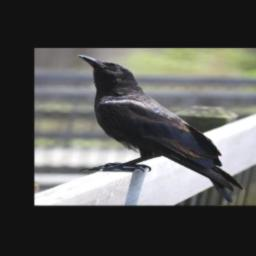Crow: (78, 54, 246, 202)
